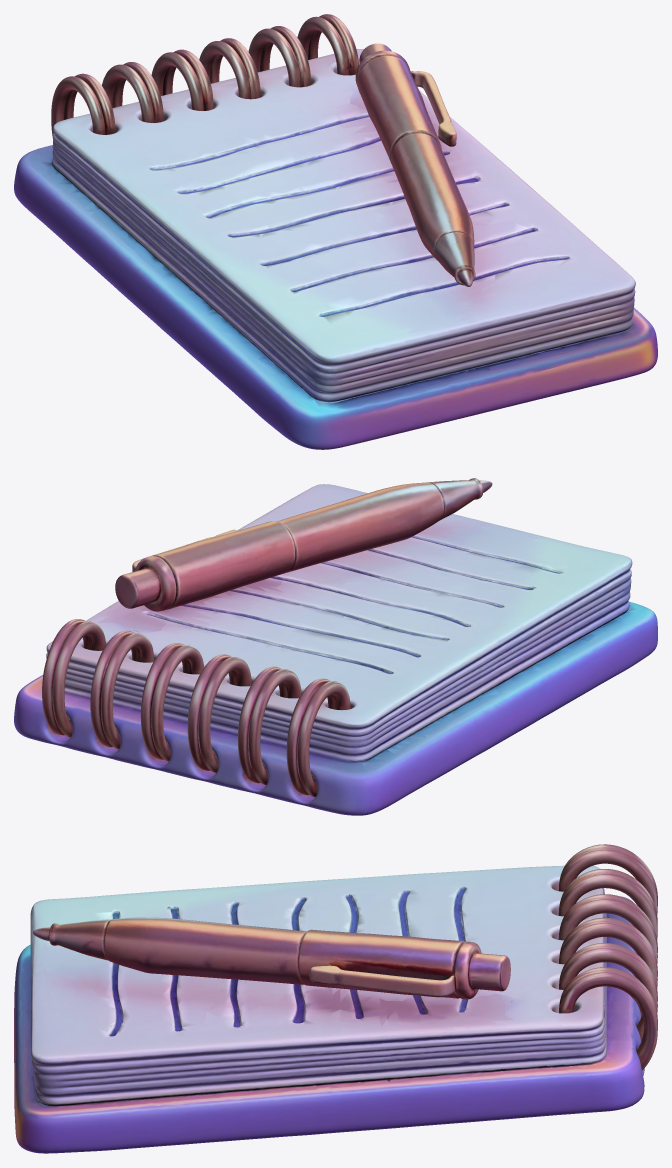
The model's file is notepad.glb.
3 renders of one model, top to bottom at view 1: azimuth 30°, elevation 25°; view 2: azimuth 150°, elevation 25°; view 3: azimuth 270°, elevation 25°, orthographic. The views are drawn at different scales.
Visible parts, largest first — view 1: tripo_node_d05b423b-c248-42a6-b28c-dd2892f987b5; view 2: tripo_node_d05b423b-c248-42a6-b28c-dd2892f987b5; view 3: tripo_node_d05b423b-c248-42a6-b28c-dd2892f987b5.
Part boxes in pixels (x1,y1,x2,y2): tripo_node_d05b423b-c248-42a6-b28c-dd2892f987b5: [14, 14, 657, 449]; tripo_node_d05b423b-c248-42a6-b28c-dd2892f987b5: [14, 478, 657, 815]; tripo_node_d05b423b-c248-42a6-b28c-dd2892f987b5: [14, 844, 657, 1153].
Size of the model in its own units: 2.19 by 1 by 3.22.
Materials: 1 (1 with a texture image).
